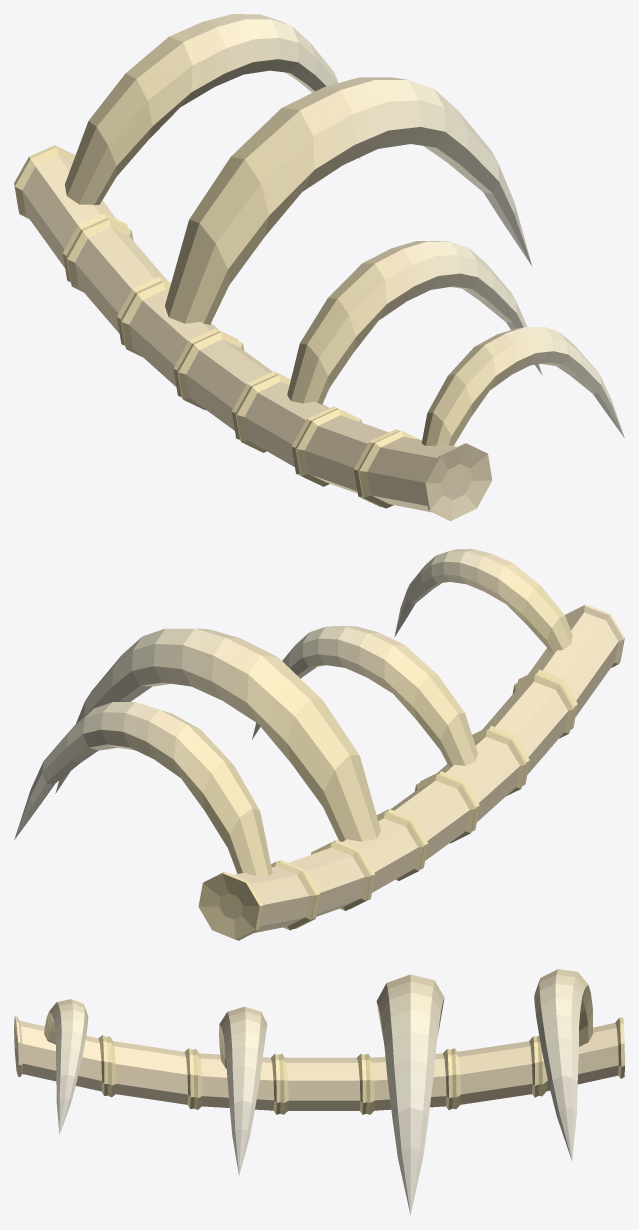
File: carcasse_2.fbx
The picture shows the model from 3 angles, top to bottom: view 1: azimuth 30°, elevation 25°; view 2: azimuth 150°, elevation 25°; view 3: azimuth 270°, elevation 25°; orthographic projection. The views are drawn at different scales.
Visible parts, largest first — view 1: Huesos-C.001; view 2: Huesos-C.001; view 3: Huesos-C.001.
Boxes of the visible parts, <box> form: Huesos-C.001: <box>14,14,624,520</box>; Huesos-C.001: <box>14,549,624,940</box>; Huesos-C.001: <box>14,969,624,1214</box>.
Bounding box in the file's own units: 144 × 91.33 × 267.
